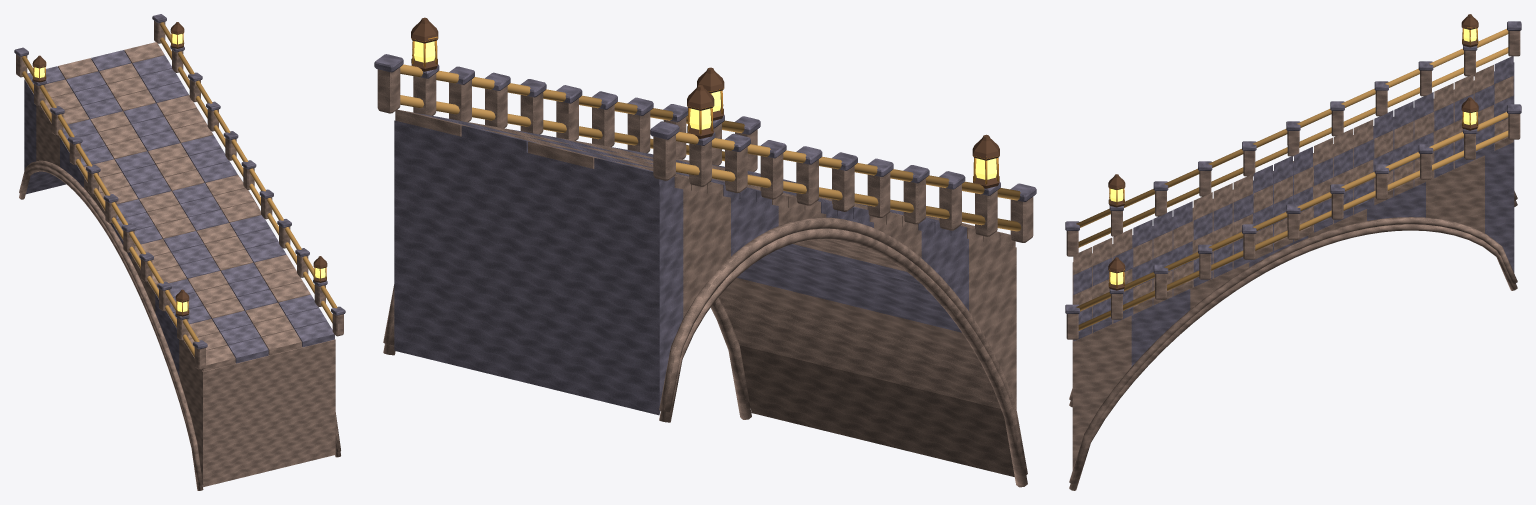
The model's file is west-stone-bridge.glb.
3 renders of one model, left to right at view 1: azimuth 30°, elevation 25°; view 2: azimuth 150°, elevation 25°; view 3: azimuth 270°, elevation 25°, orthographic. The views are drawn at different scales.
Visible parts, largest first — view 1: west-stone-bridge · Bridge sandstone, west-stone-bridge · Bridge granite, west-stone-bridge · Aged gold, west-stone-bridge · Patinated bronze, west-stone-bridge · Amber lamp glass; view 2: west-stone-bridge · Bridge granite, west-stone-bridge · Bridge sandstone, west-stone-bridge · Aged gold, west-stone-bridge · Patinated bronze, west-stone-bridge · Amber lamp glass, west-stone-bridge · Hammered brass; view 3: west-stone-bridge · Bridge sandstone, west-stone-bridge · Bridge granite, west-stone-bridge · Aged gold, west-stone-bridge · Patinated bronze, west-stone-bridge · Amber lamp glass.
Boxes of the visible parts, bbox=[...] form: west-stone-bridge · Bridge sandstone: bbox=[16, 20, 343, 490]; west-stone-bridge · Bridge granite: bbox=[14, 14, 345, 376]; west-stone-bridge · Aged gold: bbox=[22, 22, 337, 356]; west-stone-bridge · Patinated bronze: bbox=[32, 22, 327, 316]; west-stone-bridge · Amber lamp glass: bbox=[34, 34, 325, 311]; west-stone-bridge · Bridge granite: bbox=[374, 54, 1036, 415]; west-stone-bridge · Bridge sandstone: bbox=[377, 67, 1033, 487]; west-stone-bridge · Aged gold: bbox=[400, 64, 1021, 231]; west-stone-bridge · Patinated bronze: bbox=[411, 17, 999, 188]; west-stone-bridge · Amber lamp glass: bbox=[414, 41, 996, 179]; west-stone-bridge · Hammered brass: bbox=[411, 36, 999, 184]; west-stone-bridge · Bridge sandstone: bbox=[1066, 31, 1520, 490]; west-stone-bridge · Bridge granite: bbox=[1065, 21, 1521, 366]; west-stone-bridge · Aged gold: bbox=[1076, 28, 1508, 330]; west-stone-bridge · Patinated bronze: bbox=[1108, 14, 1478, 290]; west-stone-bridge · Amber lamp glass: bbox=[1110, 28, 1476, 284].
Bounding box in the file's own units: 6.86 × 13.71 × 14.46.
6 materials, 2 textured.
